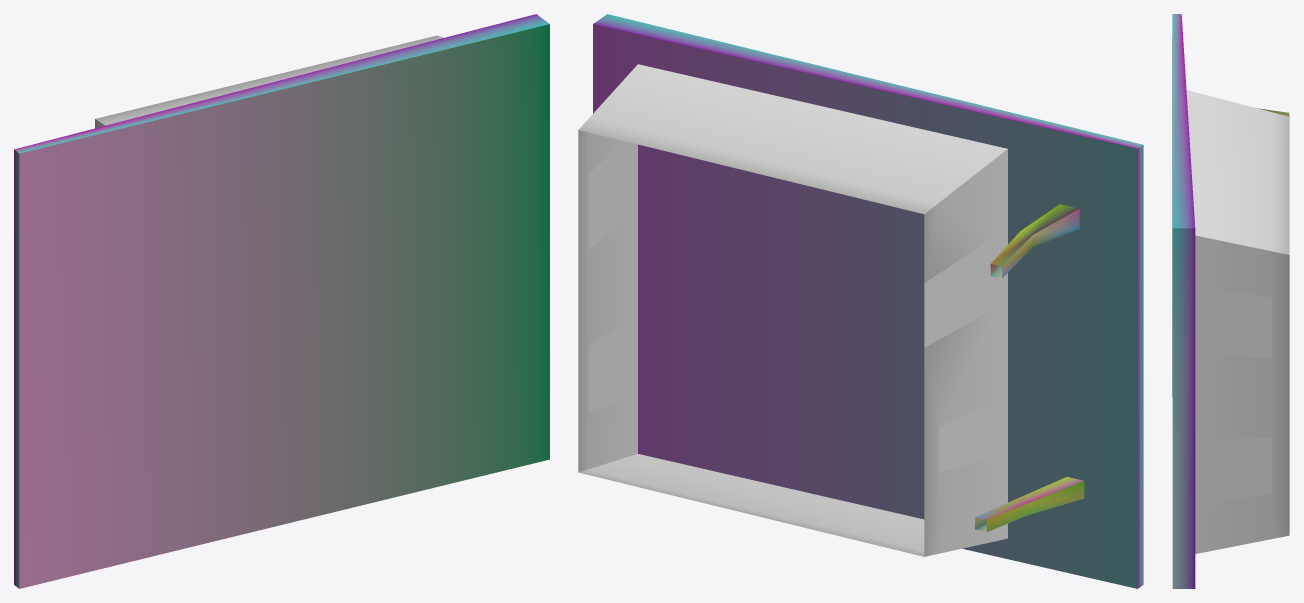
The model's file is Village_ModularA.glb.
The picture shows the model from 3 angles, left to right: view 1: azimuth 30°, elevation 25°; view 2: azimuth 150°, elevation 25°; view 3: azimuth 270°, elevation 25°; orthographic projection. The views are drawn at different scales.
Parts seen in each view (by area): view 1: MeshNode_0, MeshNode_2; view 2: MeshNode_0, MeshNode_2, MeshNode_1; view 3: MeshNode_2, MeshNode_0, MeshNode_1.
Part boxes in pixels (box(x1,y1,x2,y2)): MeshNode_0: box(14, 14, 549, 588); MeshNode_2: box(95, 35, 443, 128); MeshNode_0: box(593, 14, 1143, 588); MeshNode_2: box(578, 64, 1007, 556); MeshNode_1: box(589, 141, 997, 472); MeshNode_2: box(1186, 90, 1289, 553); MeshNode_0: box(1172, 14, 1289, 588); MeshNode_1: box(1204, 288, 1271, 502).
Size of the model in its own units: 20.98 by 16.44 by 4.84.
